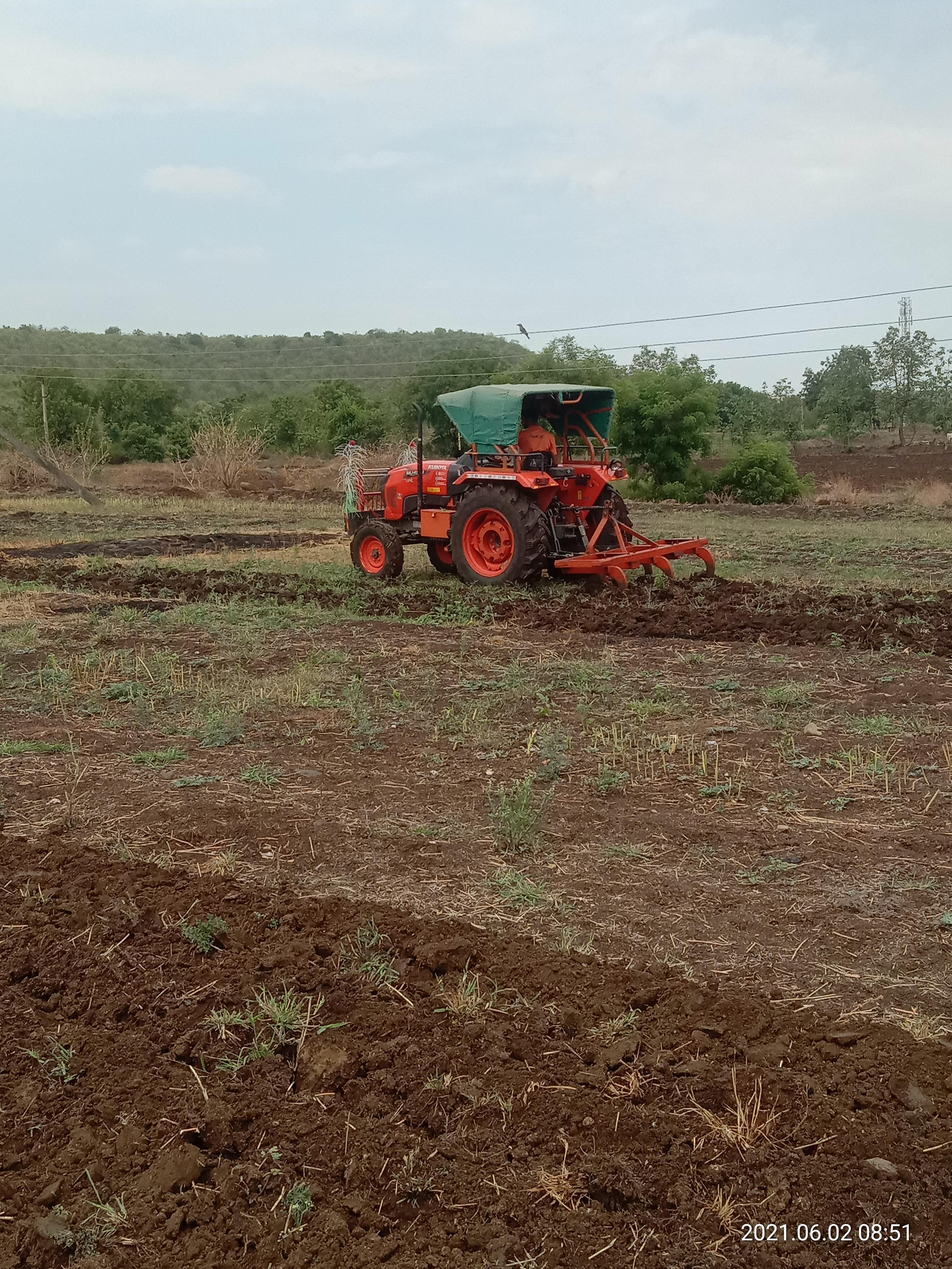non-ambulance: (245, 283, 757, 685)
